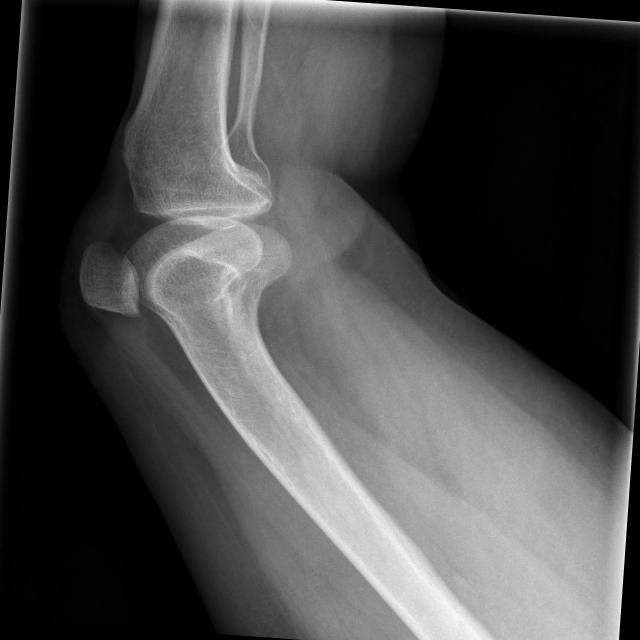Knee: (72, 131, 306, 335)
